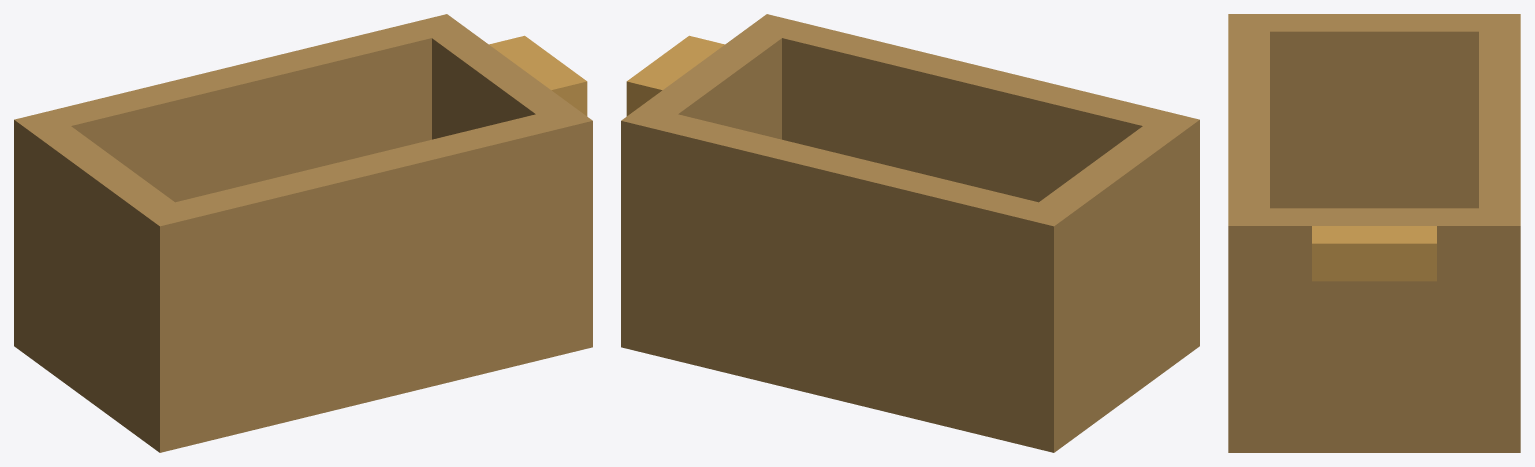
The model's file is Cabinet00-drawer1.gltf.
3 renders of one model, left to right at view 1: azimuth 30°, elevation 25°; view 2: azimuth 150°, elevation 25°; view 3: azimuth 270°, elevation 25°, orthographic.
Size of the model in its own units: 13 by 6 by 7.
